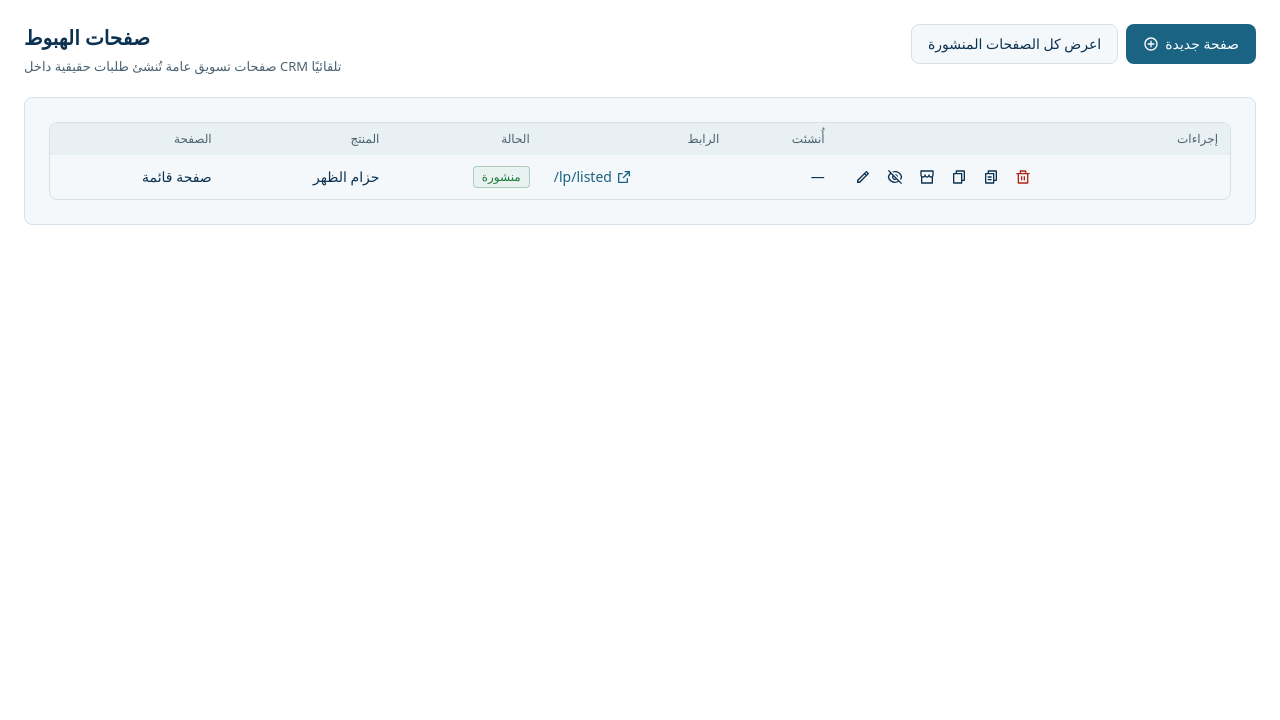
Test case: the two starting points › open on the structures, and the ten are listed
Click the button "صفحة جديدة".
click(1191, 44)  # box [1126, 24, 1256, 64]
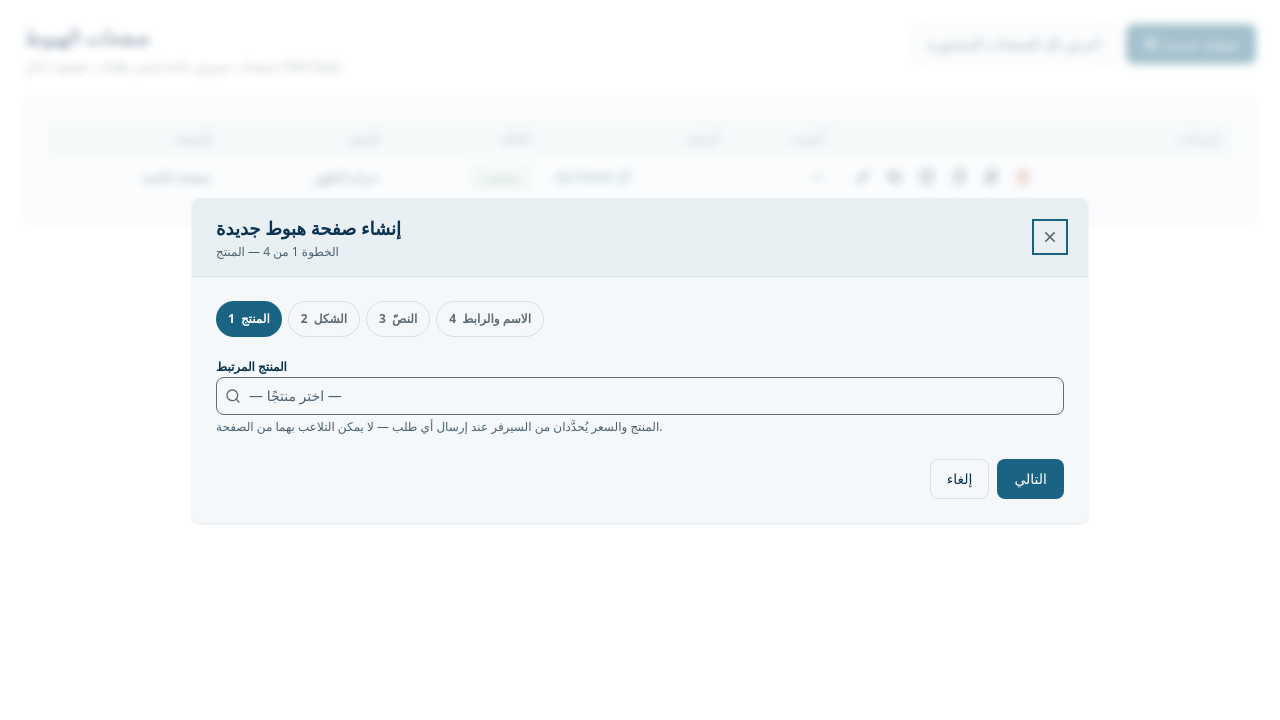
Click the button "التالي".
click(1031, 478)  # box [997, 458, 1064, 498]
(page scrolled)
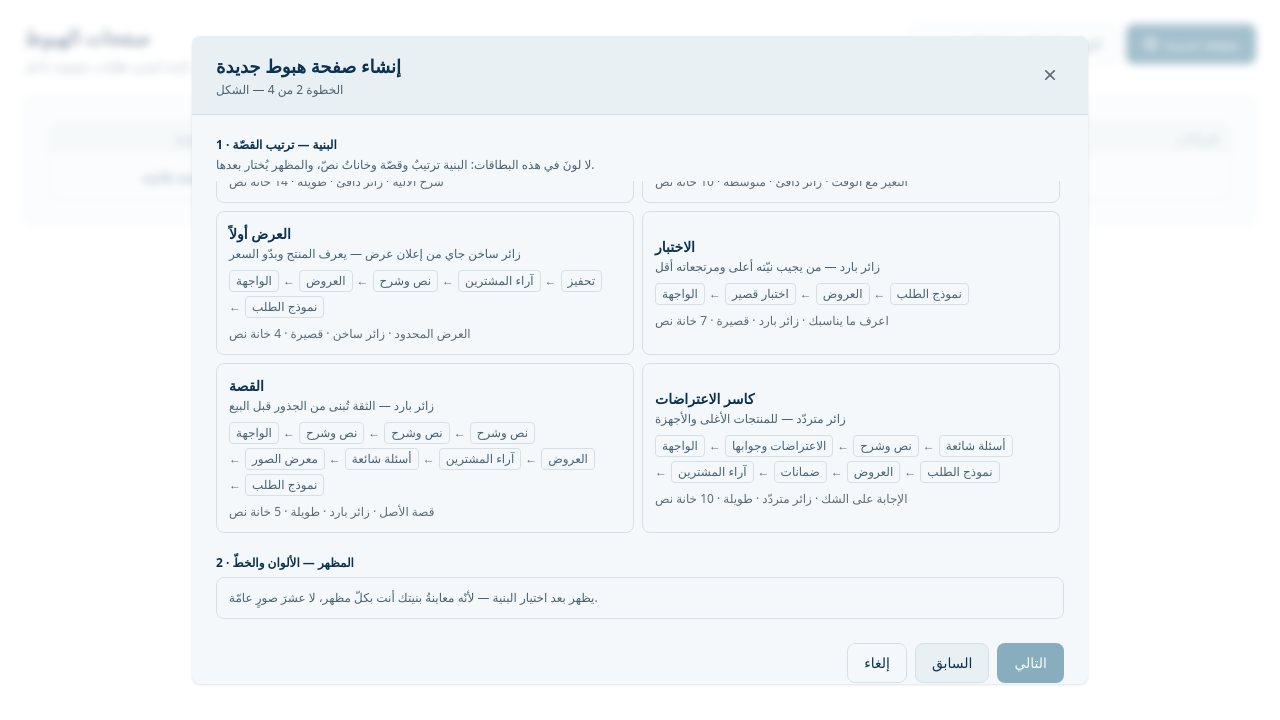
Now the text "العرض أولاً" is shown, box [229, 224, 291, 243]
Now the text "الاختبار" is shown, box [655, 237, 695, 256]
Now the text "القصة" is shown, box [229, 376, 264, 395]
